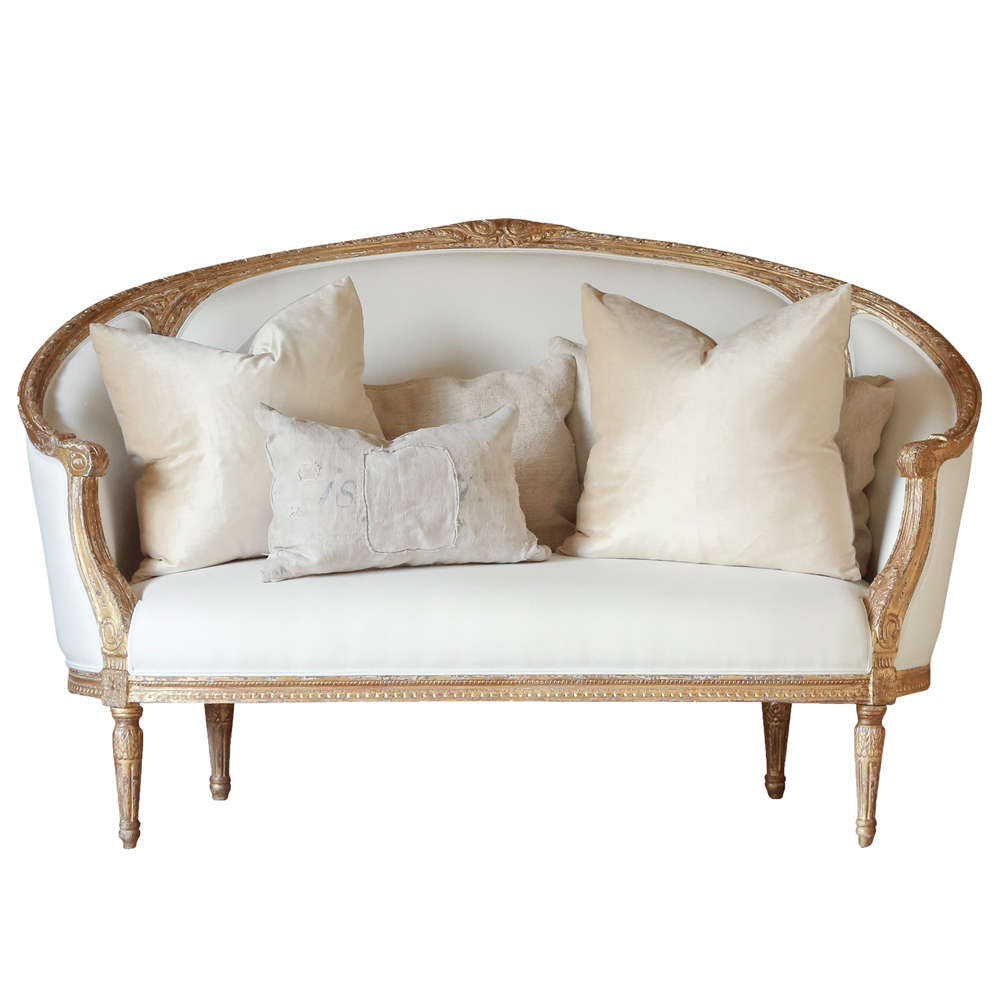chairs: (1, 217, 991, 852)
